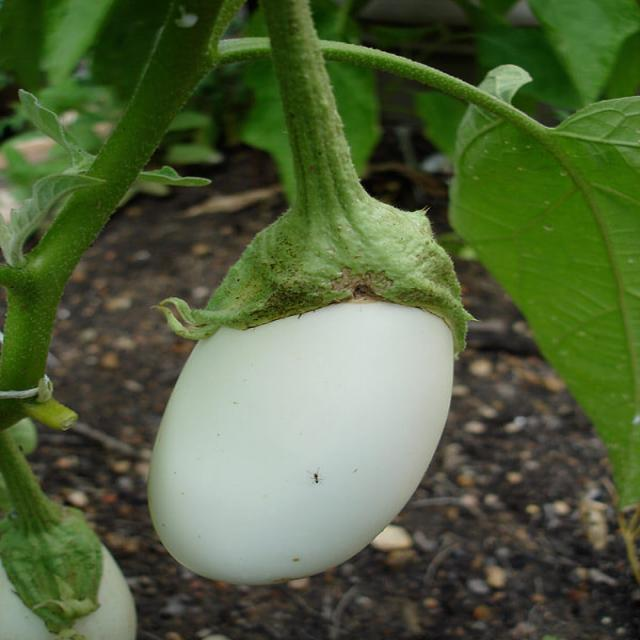Eggplant: (139, 207, 469, 580)
